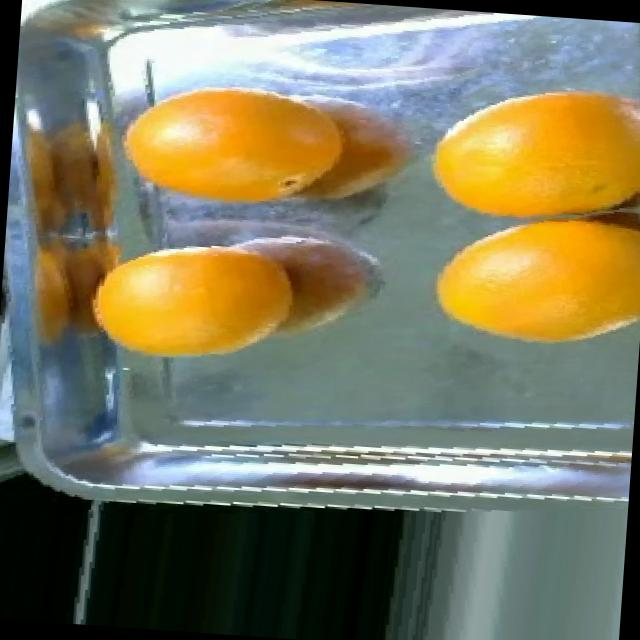Fruit: (410, 70, 618, 228), (418, 211, 618, 360), (100, 64, 314, 202), (0, 459, 96, 624)
